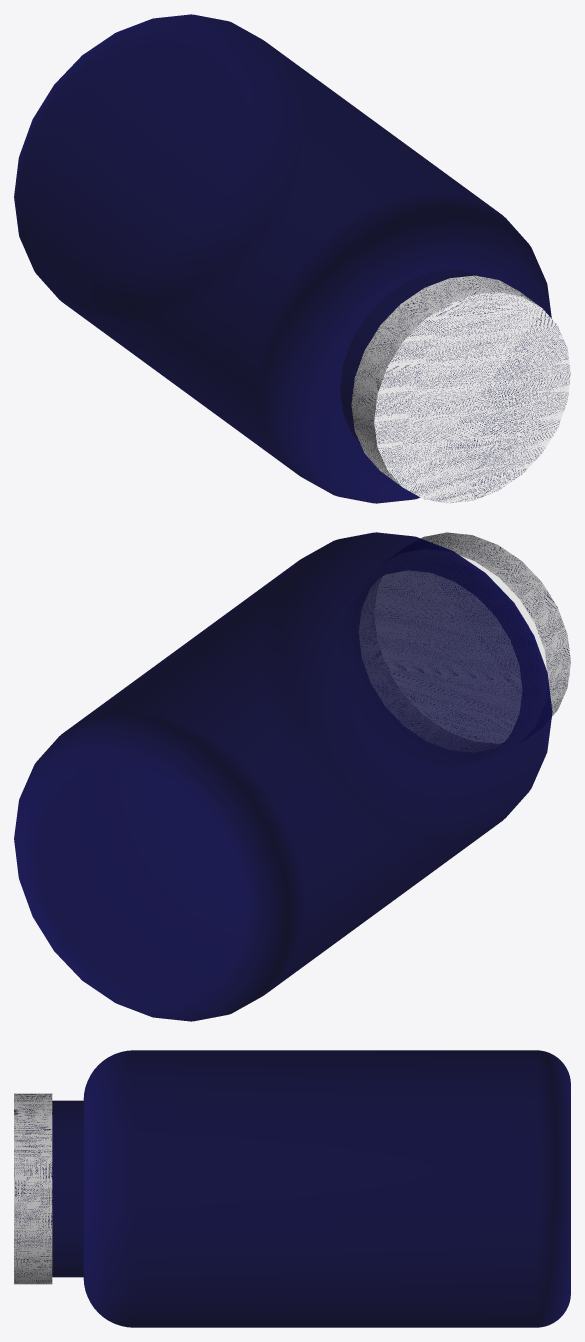
File: model_scale.obj
The picture shows the model from 3 angles, top to bottom: view 1: azimuth 30°, elevation 25°; view 2: azimuth 150°, elevation 25°; view 3: azimuth 270°, elevation 25°; orthographic projection. The views are drawn at different scales.
Visible parts, largest first — view 1: mesh1_mesh1-geometry; view 2: mesh1_mesh1-geometry; view 3: mesh1_mesh1-geometry.
Part boxes in pixels (x1,y1,x2,y2): mesh1_mesh1-geometry: (14, 14, 570, 503); mesh1_mesh1-geometry: (14, 532, 570, 1021); mesh1_mesh1-geometry: (14, 1050, 570, 1327).
Bounding box in the file's own units: 0.1202 × 0.1202 × 0.2405.
